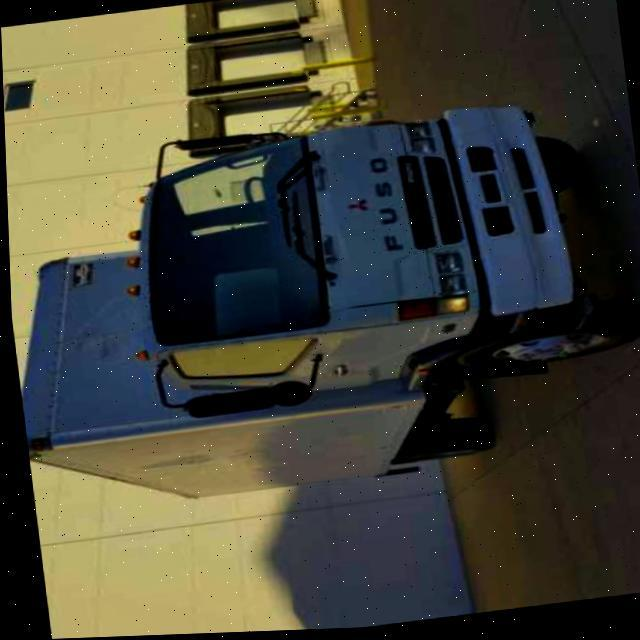truck: (3, 91, 640, 519)
